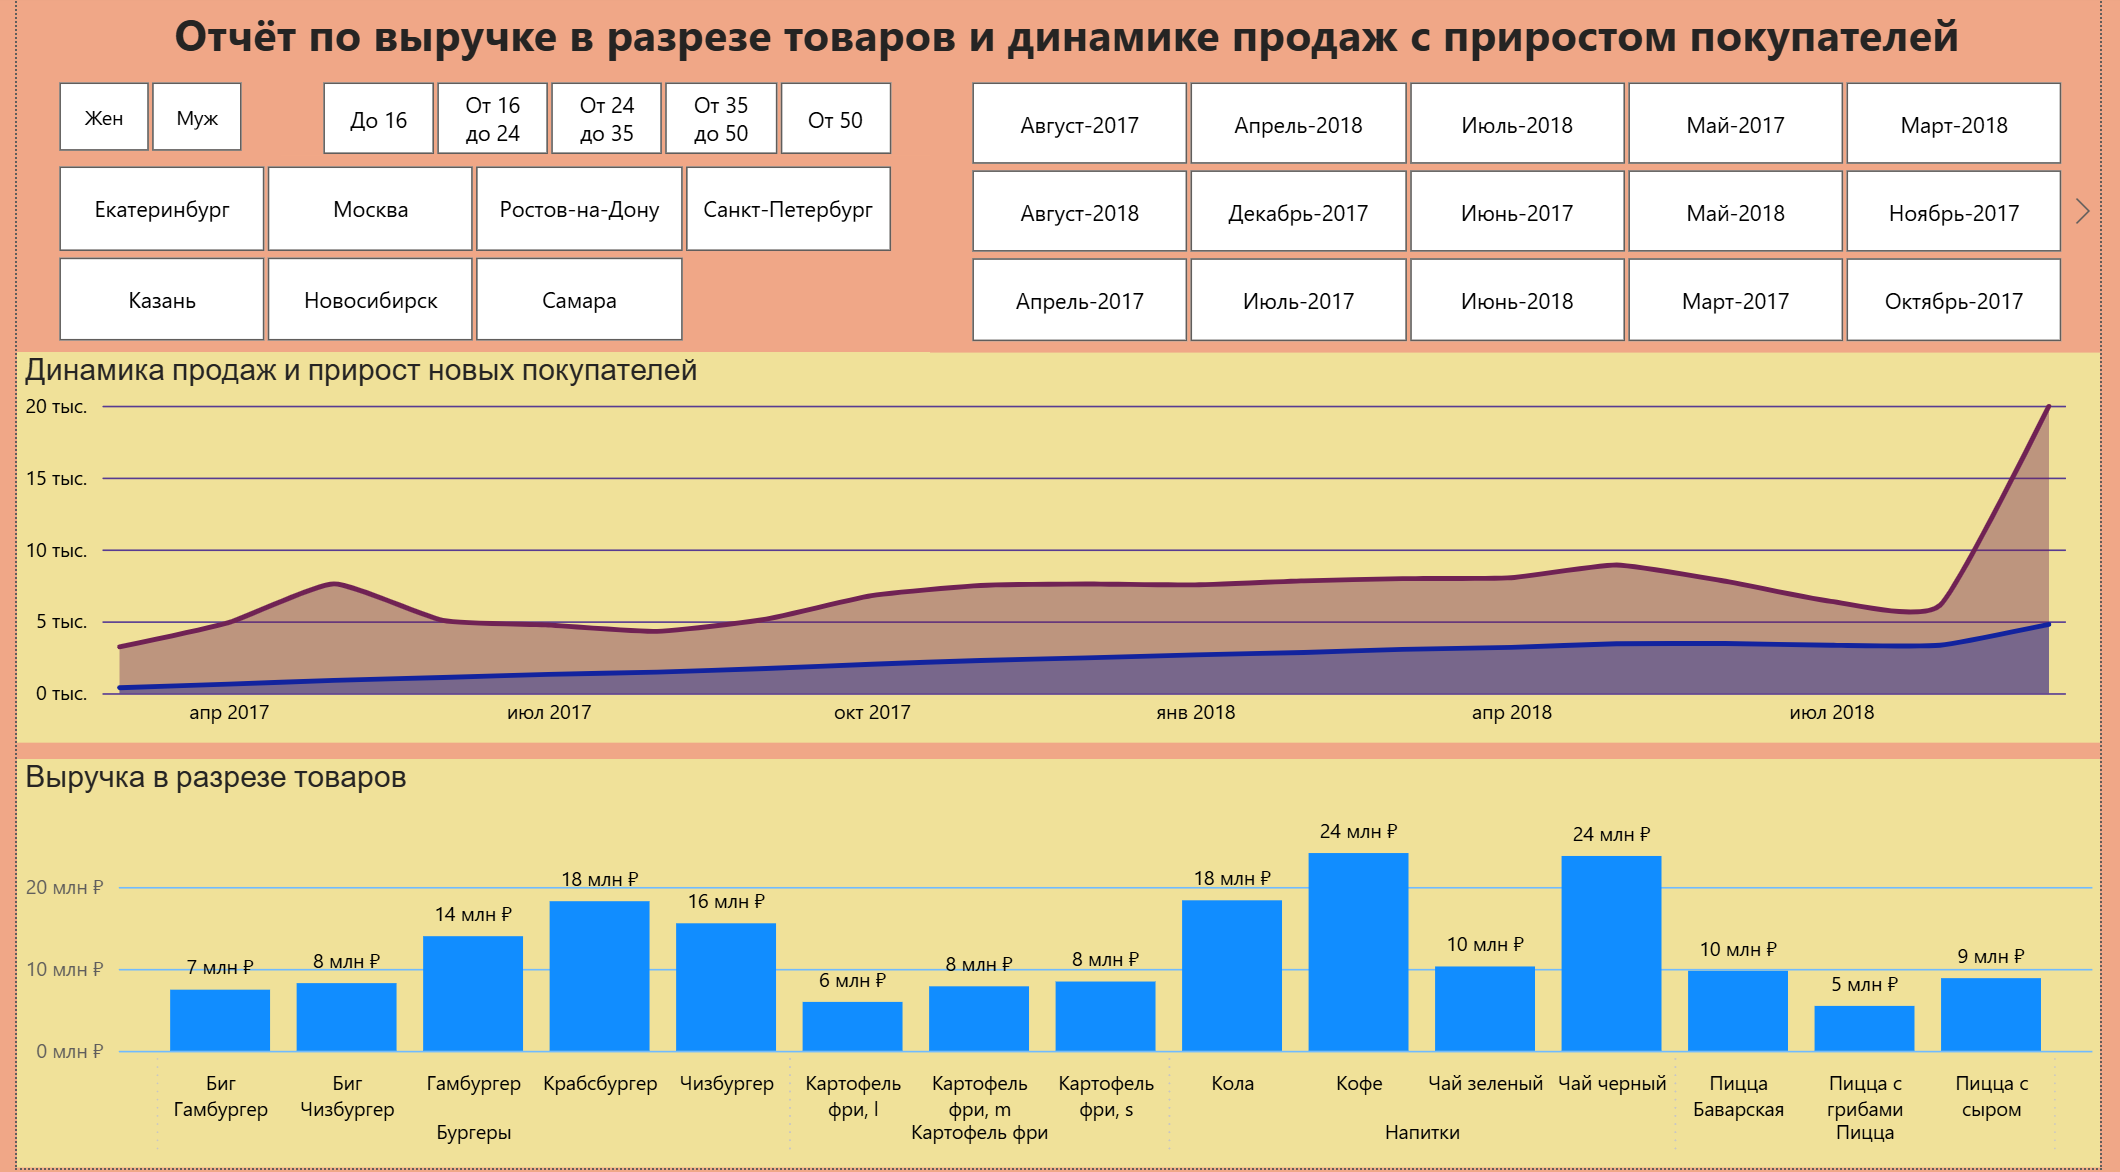

What the dashboard file says about the page in this screenshot:
{"tool":"powerbi","page":{"name":"Отчёт по выручке в разрезе товаров и динамике продаж с приростом покупателей","canvas":[1280,720],"ordinal":3},"visuals":[{"type":"textbox","box":[9.8,0,1270.4,46.1],"z":0},{"type":"clusteredColumnChart","title":"Выручка в разрезе товаров","fields":{"Category":["Блюда.Меню.Тип блюда","Блюда.Меню.Название блюда"],"Y":["Меры.Выручка"]},"box":[0,468.7,1280.3,251.3],"z":1000},{"type":"areaChart","title":"Динамика продаж и прирост новых покупателей","fields":{"Y":["Меры.Число транзакций","Меры.Число уникальных покупателей"],"Category":["Календарь.Date.Изменение.Иерархия дат.Год","Календарь.Date.Изменение.Иерархия дат.Месяц"]},"box":[0,218.7,1280.3,239.6],"z":2000},{"type":"slicer","fields":{"Values":["Клиенты.Пол"]},"box":[0,46.1,162.2,55.9],"z":3000},{"type":"slicer","fields":{"Values":["Рестораны.Город"]},"box":[0,97.7,560.9,121],"z":4000},{"type":"slicer","fields":{"Values":["Продажи.Возрастная группа"]},"box":[162.2,46.1,398.7,51.6],"z":5000},{"type":"slicer","fields":{"Values":["Календарь.Месяц, год"]},"box":[560.9,46.1,719.4,172.6],"z":6000}]}

Visuals, with their boxes in screenshot pixels (x1, y1, x2, y2), scaled from the page's 1280x720 canvas onto the 2120x1172 screenshot:
textbox: box(16, 0, 2119, 75)
"Выручка в разрезе товаров" clusteredColumnChart: box(0, 763, 2119, 1171)
"Динамика продаж и прирост новых покупателей" areaChart: box(0, 356, 2119, 746)
slicer - Клиенты.Пол: box(0, 75, 269, 166)
slicer - Рестораны.Город: box(0, 159, 929, 356)
slicer - Продажи.Возрастная группа: box(269, 75, 929, 159)
slicer - Календарь.Месяц, год: box(929, 75, 2119, 356)
